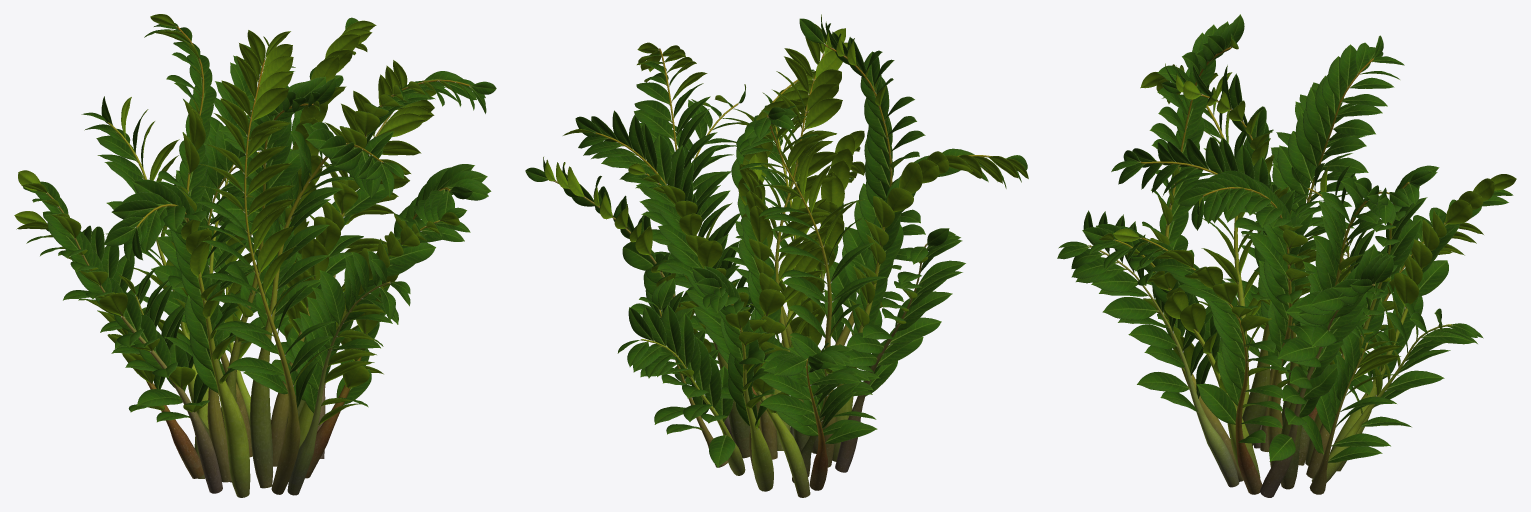
Rendered from plant.gltf.
3 renders of one model, left to right at view 1: azimuth 30°, elevation 25°; view 2: azimuth 150°, elevation 25°; view 3: azimuth 270°, elevation 25°, orthographic. The views are drawn at different scales.
Visible parts, largest first — view 1: PlantZZ001.001; view 2: PlantZZ001.001; view 3: PlantZZ001.001.
Part boxes in pixels (box(x1,y1,x2,y2)): PlantZZ001.001: box(14, 14, 496, 497); PlantZZ001.001: box(525, 14, 1028, 497); PlantZZ001.001: box(1057, 14, 1516, 497).
Size of the model in its own units: 0.2395 by 0.2489 by 0.2279.
Materials: 1 (1 with a texture image).
